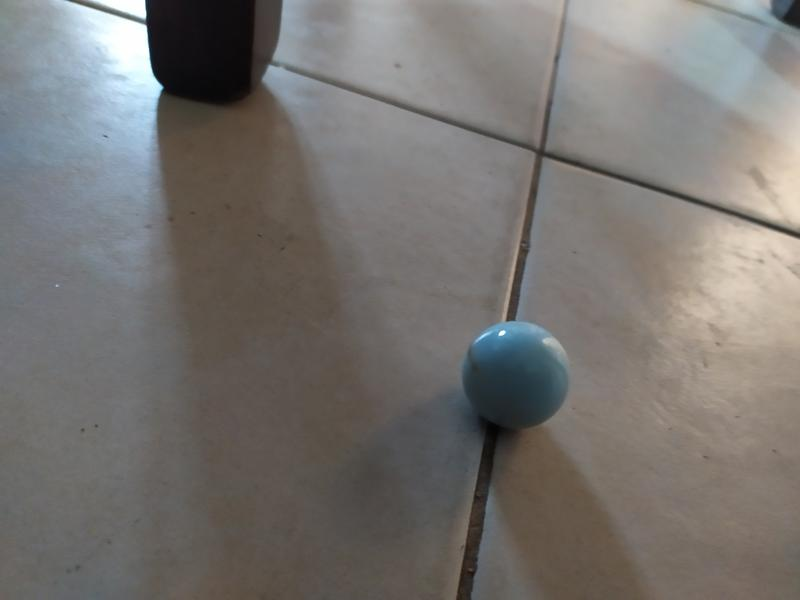Warning: (458, 317, 576, 433)
